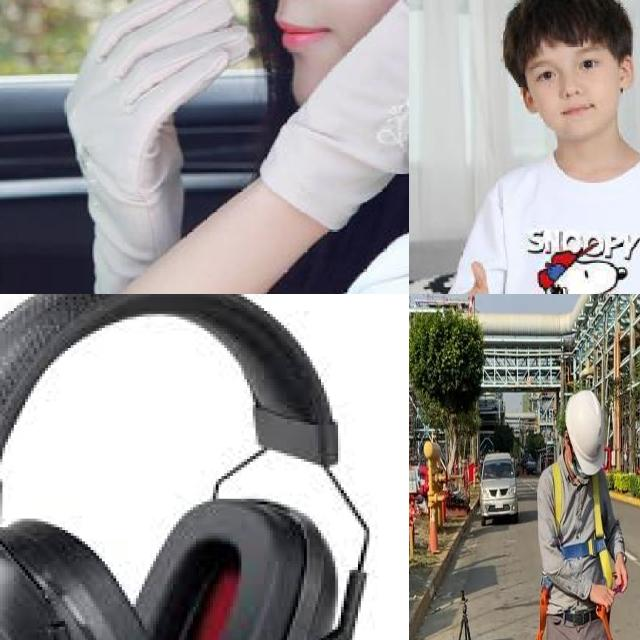Ear-protection: (130, 484, 337, 640), (0, 504, 187, 640)
Harness: (552, 463, 613, 588), (535, 582, 550, 640), (596, 606, 616, 640)
No_Ear-Protection: (618, 54, 636, 96)
No_Glasses: (565, 40, 604, 80), (526, 56, 563, 96)
face_nomask: (223, 0, 409, 118), (525, 40, 619, 137)
hand_glove: (59, 0, 250, 234), (316, 0, 409, 186)
hand_noglove: (454, 259, 489, 294)
head_nohelmet: (483, 0, 628, 58)
person: (446, 0, 640, 294)
